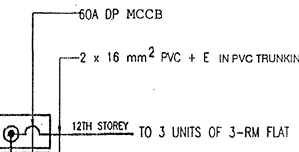Single Phase Tap-Off Unit: (0, 111, 53, 152)
